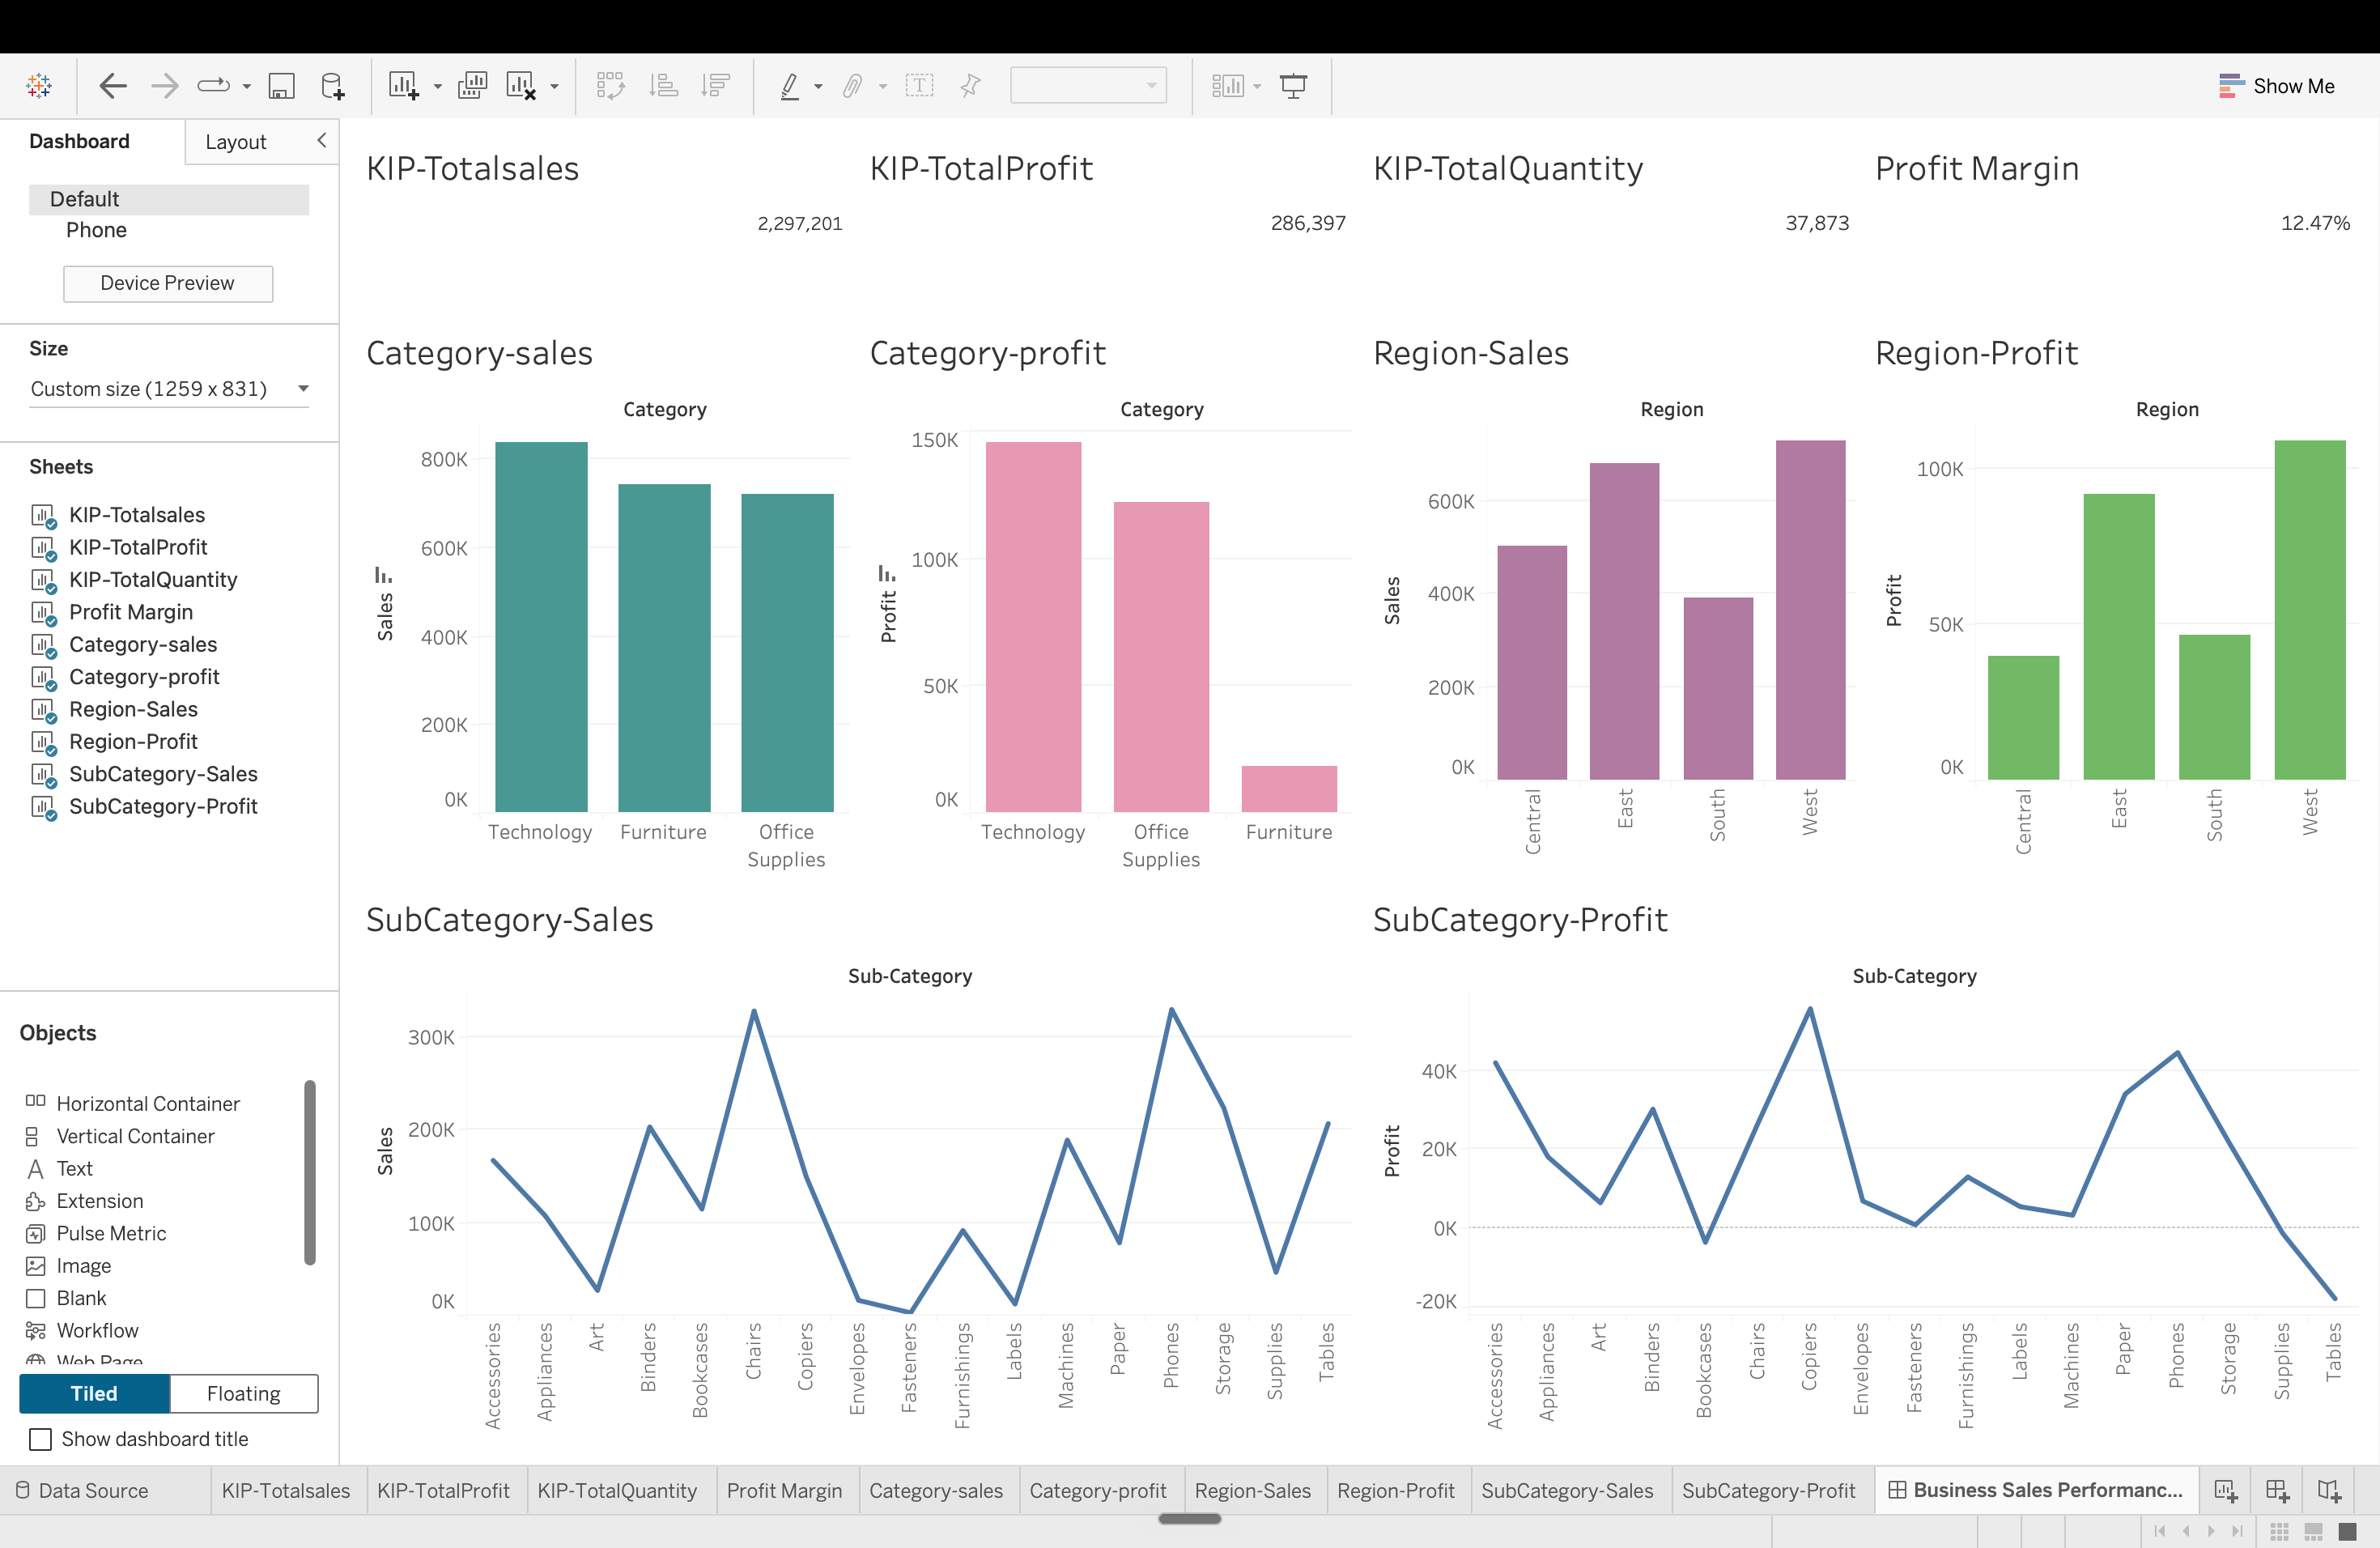

What the dashboard file says about the page in this screenshot:
{"tool":"tableau","page":{"name":"Business Sales Performance Dashboard","canvas":[1259,831],"ordinal":0},"visuals":[{"type":"worksheet","title":"KIP-Totalsales","mark":"Automatic","box":[8,8,310.8,114]},{"type":"worksheet","title":"KIP-TotalProfit","mark":"Automatic","box":[318.8,8,310.7,114]},{"type":"worksheet","title":"KIP-TotalQuantity","mark":"Automatic","box":[629.5,8,310.8,114]},{"type":"worksheet","title":"Profit Margin","mark":"Automatic","box":[940.3,8,310.7,114]},{"type":"worksheet","title":"Category-sales","mark":"Automatic","rows":["Sales"],"cols":["Category"],"box":[8,122,310.8,350.5]},{"type":"worksheet","title":"Category-profit","mark":"Automatic","rows":["Profit"],"cols":["Category"],"box":[318.8,122,310.7,350.5]},{"type":"worksheet","title":"Region-Sales","mark":"Bar","rows":["Sales"],"cols":["Region"],"box":[629.5,122,310.8,350.5]},{"type":"worksheet","title":"Region-Profit","mark":"Automatic","rows":["Profit"],"cols":["Region"],"box":[940.3,122,310.7,350.5]},{"type":"worksheet","title":"SubCategory-Sales","mark":"Line","rows":["Sales"],"cols":["Sub-Category"],"box":[8,472.5,621.5,350.5]},{"type":"worksheet","title":"SubCategory-Profit","mark":"Line","rows":["Profit"],"cols":["Sub-Category"],"box":[629.5,472.5,621.5,350.5]}]}

Visuals, with their boxes on the page's 1259x831 design canvas (x1, y1, x2, y2). These are canvas units, not pixel positions in the 2380x1548 screenshot, which may show the page scaled, cropped or inside an application window:
"KIP-Totalsales" worksheet: rect(8, 8, 319, 122)
"KIP-TotalProfit" worksheet: rect(319, 8, 630, 122)
"KIP-TotalQuantity" worksheet: rect(630, 8, 940, 122)
"Profit Margin" worksheet: rect(940, 8, 1251, 122)
"Category-sales" worksheet: rect(8, 122, 319, 472)
"Category-profit" worksheet: rect(319, 122, 630, 472)
"Region-Sales" worksheet (Bar marks): rect(630, 122, 940, 472)
"Region-Profit" worksheet: rect(940, 122, 1251, 472)
"SubCategory-Sales" worksheet (Line marks): rect(8, 472, 630, 823)
"SubCategory-Profit" worksheet (Line marks): rect(630, 472, 1251, 823)
